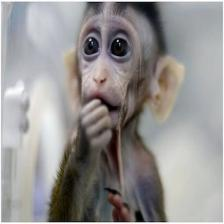monkey: (58, 2, 185, 224)
